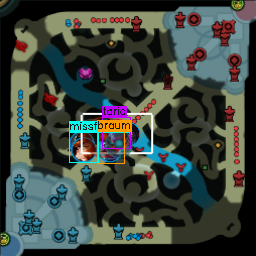braum: (96, 136, 118, 161)
missfortune: (72, 136, 94, 161)
taric: (103, 118, 128, 143)
